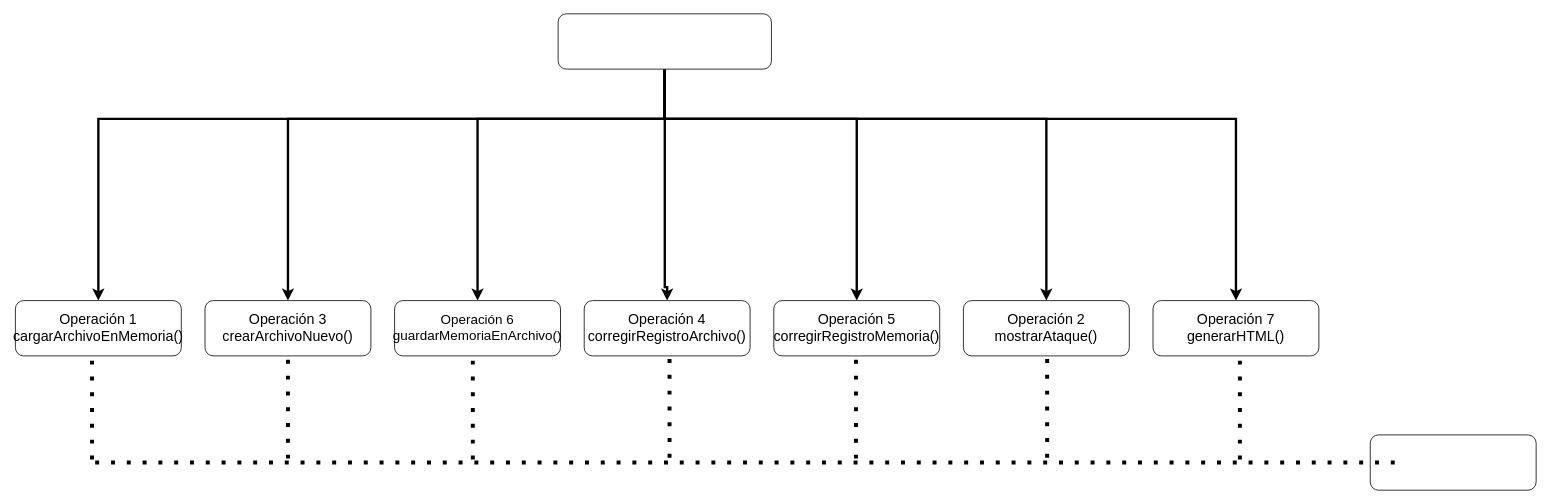
This 1550x504 diagram has some shape labels left out. Here are the shapes that lost their labels. From the top down, the box of each, then its label:
(557, 13, 771, 69): Menú Principal main ()
(1369, 434, 1536, 490): Funciones Auxiliares de Validación
